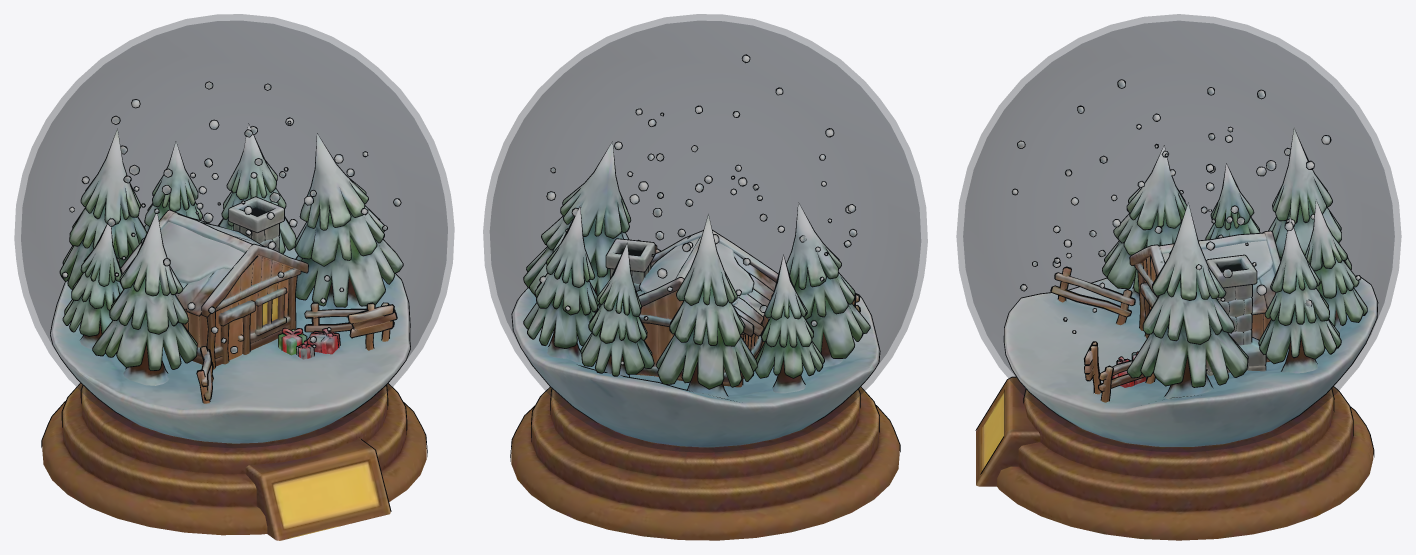
The model's file is boule.glb.
3 renders of one model, left to right at view 1: azimuth 30°, elevation 25°; view 2: azimuth 150°, elevation 25°; view 3: azimuth 270°, elevation 25°, orthographic.
Parts seen in each view (by area): view 1: glass_glass_0, christmass_ball_inside_0, christmass_ball_ouline_0; view 2: glass_glass_0, christmass_ball_inside_0, christmass_ball_ouline_0; view 3: glass_glass_0, christmass_ball_inside_0, christmass_ball_ouline_0.
Boxes of the visible parts, bbox=[...] form: glass_glass_0: bbox=[14, 14, 454, 447]; christmass_ball_inside_0: bbox=[42, 82, 426, 540]; christmass_ball_ouline_0: bbox=[41, 81, 427, 511]; glass_glass_0: bbox=[483, 14, 927, 452]; christmass_ball_inside_0: bbox=[511, 55, 899, 540]; christmass_ball_ouline_0: bbox=[510, 54, 900, 461]; glass_glass_0: bbox=[956, 14, 1401, 451]; christmass_ball_inside_0: bbox=[976, 80, 1377, 540]; christmass_ball_ouline_0: bbox=[975, 79, 1378, 474].
Size of the model in its own units: 200 by 210 by 200.
Materials: 3 (1 with a texture image).
